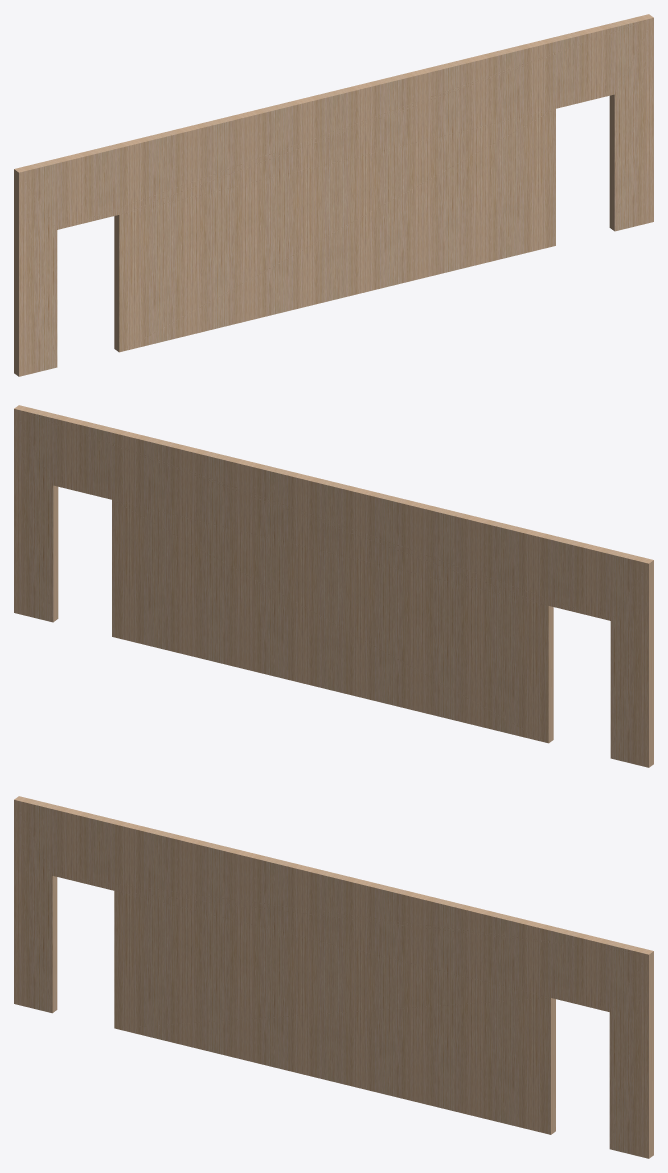
The model's file is wall 4.FBX.
3 views of the same model, one above another, from view 1: azimuth 30°, elevation 25°; view 2: azimuth 150°, elevation 25°; view 3: azimuth 330°, elevation 25° (orthographic).
Visible parts, largest first — view 1: wall 4; view 2: wall 4; view 3: wall 4.
Boxes of the visible parts, box(x1,y1,x2,y2) form: wall 4: box(14, 14, 653, 376); wall 4: box(14, 405, 653, 767); wall 4: box(14, 796, 653, 1158).
Bounding box in the file's own units: 1101 × 338 × 15.
Materials: 1 (1 with a texture image).
